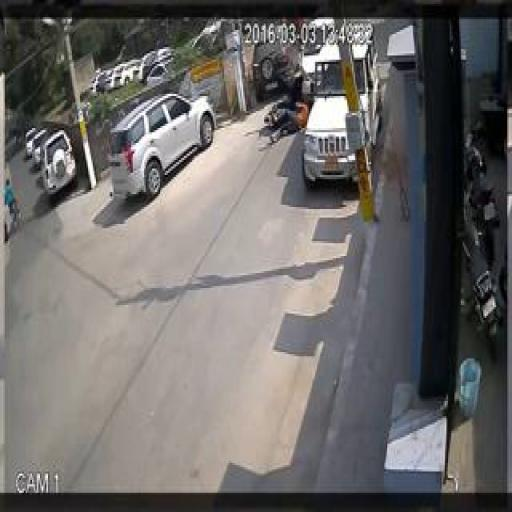Car: (301, 32, 382, 186), (107, 90, 217, 200), (300, 19, 340, 94), (37, 130, 78, 196), (249, 38, 294, 91), (139, 48, 174, 84), (26, 128, 50, 167), (114, 59, 144, 87), (89, 70, 109, 94)
Minor Accident: (274, 28, 330, 132)
Motor: (261, 84, 309, 134)
